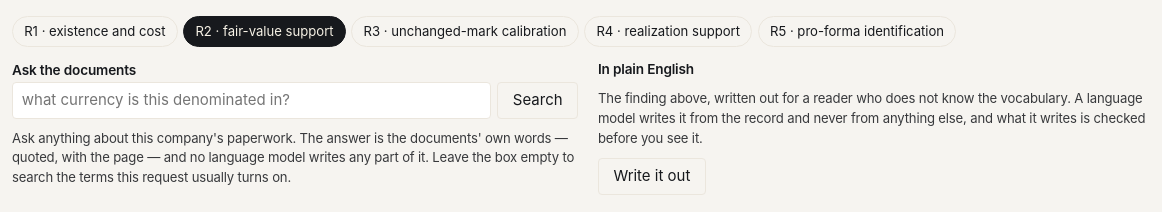
asking the documents › keeps a failed request apart from a finding of no evidence
The image size is (1162, 212).
Click the button "Search". click: (538, 100)
box: [497,82,578,119]
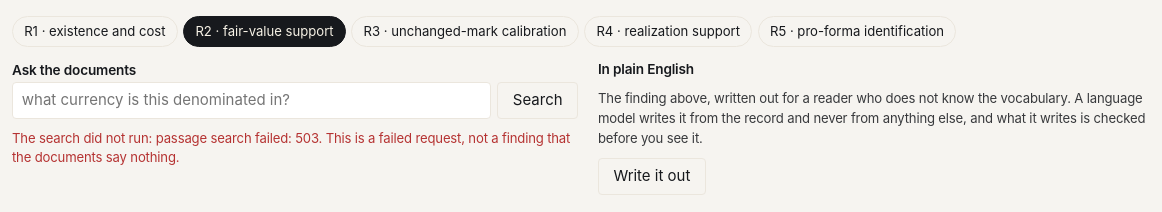
Expected: the text "did not run" is shown, [12,130,156,146]
Expected: the text "not a finding that the" is shown, [12,130,570,165]
